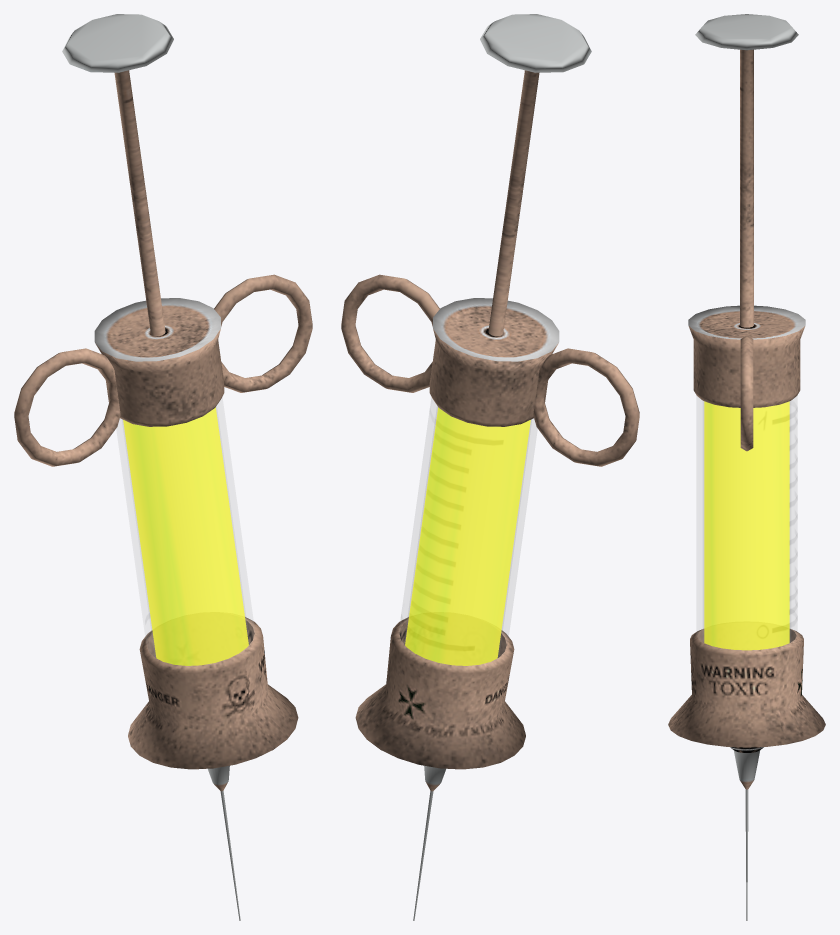
File: hypodermic-model-big.glb
3 views of the same model, side by side, from view 1: azimuth 30°, elevation 25°; view 2: azimuth 150°, elevation 25°; view 3: azimuth 270°, elevation 25° (orthographic). The views are drawn at different scales.
Parts seen in each view (by area): view 1: hypodermic; view 2: hypodermic; view 3: hypodermic.
Boxes of the visible parts, bbox=[...] form: hypodermic: bbox=[14, 14, 312, 920]; hypodermic: bbox=[341, 14, 639, 920]; hypodermic: bbox=[668, 14, 825, 920].
Bounding box in the file's own units: 87.9 × 259 × 43.81.
Materials: 3 (3 with a texture image).
